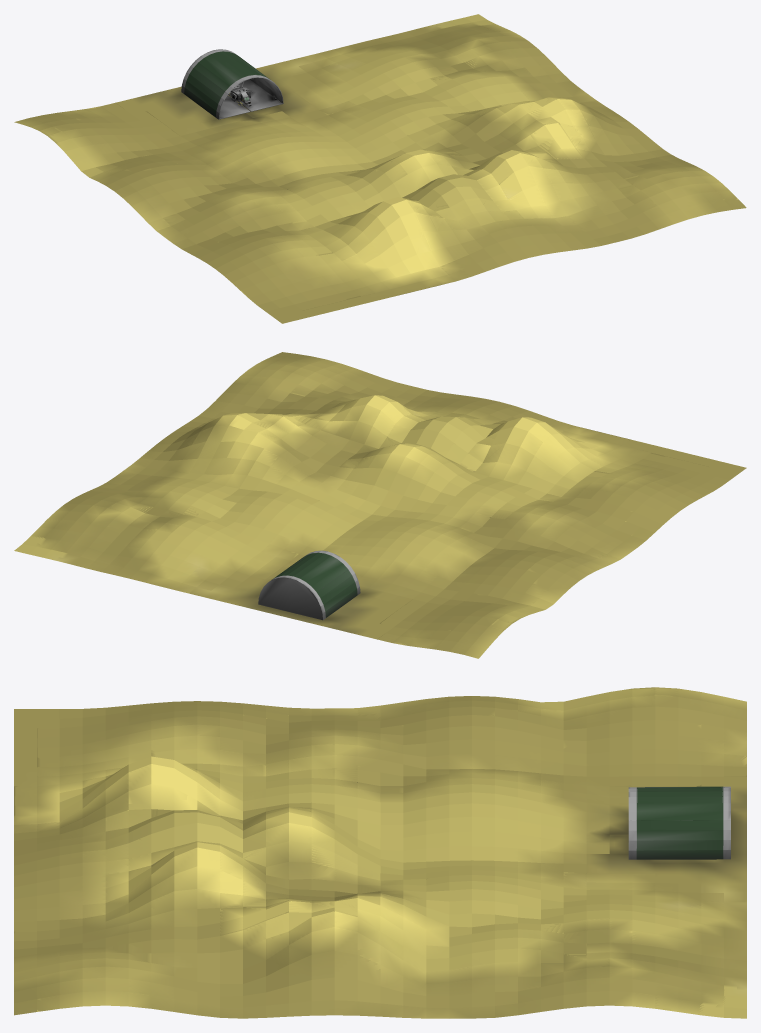
3 renders of one model, top to bottom at view 1: azimuth 30°, elevation 25°; view 2: azimuth 150°, elevation 25°; view 3: azimuth 270°, elevation 25°, orthographic. The views are drawn at different scales.
Parts seen in each view (by area): view 1: Plane, Cylinder; view 2: Plane, Cylinder; view 3: Plane, Cylinder.
Boxes of the visible parts, x1,y1,x2,y2 form: Plane: [14, 14, 746, 323]; Cylinder: [181, 49, 283, 119]; Plane: [14, 352, 746, 658]; Cylinder: [258, 550, 360, 620]; Plane: [14, 687, 746, 1018]; Cylinder: [628, 786, 730, 859].
Bounding box in the file's own units: 20000 × 1956 × 20000.
6 materials, 6 textured.
